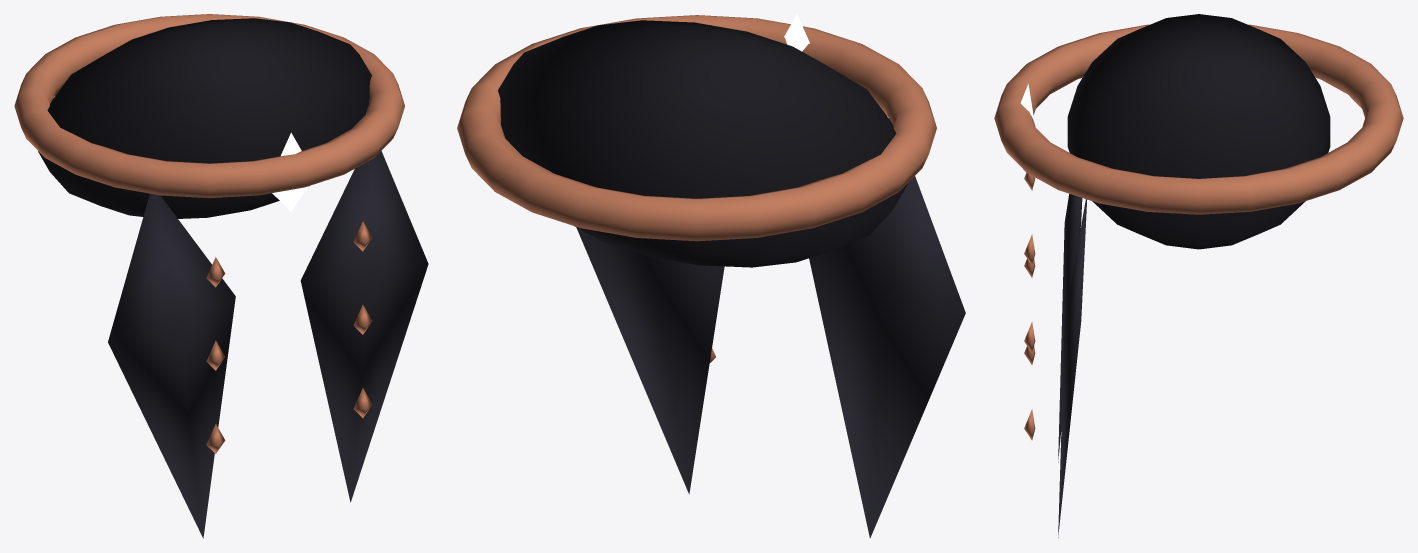
Rendered from boss_obsidian_oath_inner_garment.glb.
3 renders of one model, left to right at view 1: azimuth 30°, elevation 25°; view 2: azimuth 150°, elevation 25°; view 3: azimuth 270°, elevation 25°, orthographic. The views are drawn at different scales.
Visible parts, largest first — view 1: Boss_obsidian_oath_0, Boss_obsidian_oath_3, Boss_obsidian_oath_1, Boss_obsidian_oath_2; view 2: Boss_obsidian_oath_3, Boss_obsidian_oath_0, Boss_obsidian_oath_1; view 3: Boss_obsidian_oath_3, Boss_obsidian_oath_1, Boss_obsidian_oath_0.
Part boxes in pixels (left/top/right/bottom): Boss_obsidian_oath_0: left=108, top=151, right=428, bottom=538; Boss_obsidian_oath_3: left=38, top=18, right=371, bottom=218; Boss_obsidian_oath_1: left=14, top=14, right=404, bottom=453; Boss_obsidian_oath_2: left=272, top=132, right=308, bottom=211; Boss_obsidian_oath_3: left=498, top=20, right=908, bottom=267; Boss_obsidian_oath_0: left=576, top=176, right=965, bottom=538; Boss_obsidian_oath_1: left=457, top=15, right=936, bottom=363; Boss_obsidian_oath_3: left=1067, top=14, right=1330, bottom=249; Boss_obsidian_oath_1: left=994, top=24, right=1403, bottom=440; Boss_obsidian_oath_0: left=1058, top=194, right=1086, bottom=537.
Size of the model in its own units: 0.552 by 0.675 by 0.552.
